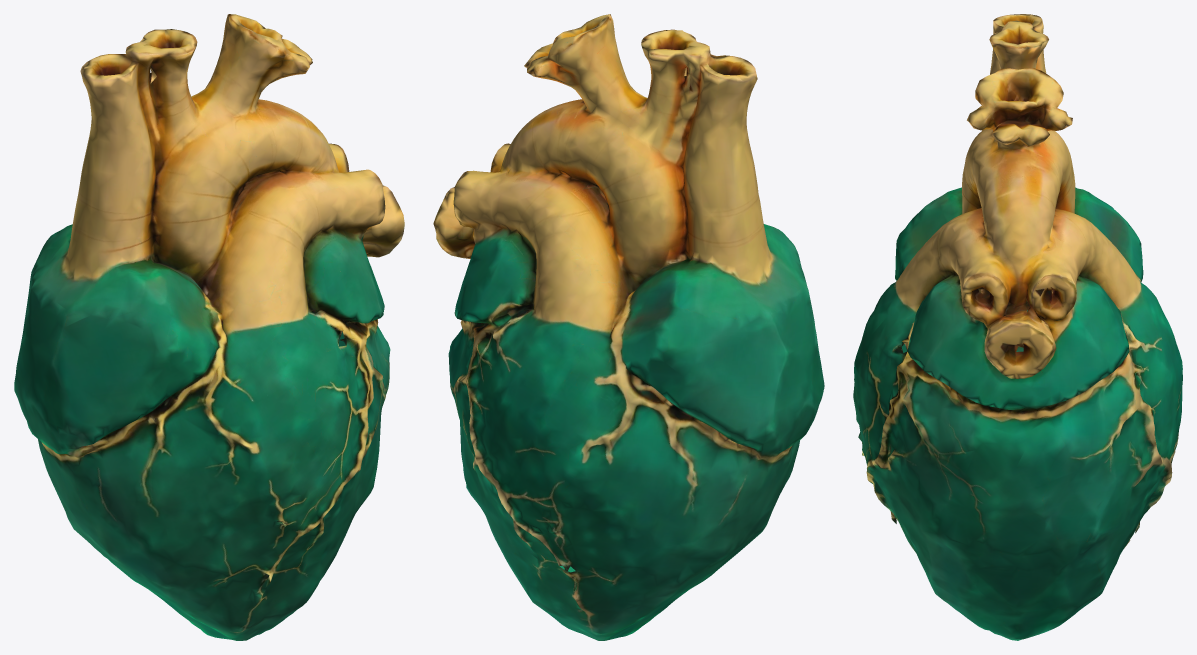
Rendered from cardiodil-heart-final.glb.
3 renders of one model, left to right at view 1: azimuth 30°, elevation 25°; view 2: azimuth 150°, elevation 25°; view 3: azimuth 270°, elevation 25°, orthographic. The views are drawn at different scales.
Bounding box in the file's own units: 1.23 × 2 × 1.05.
1 material, 1 textured.
